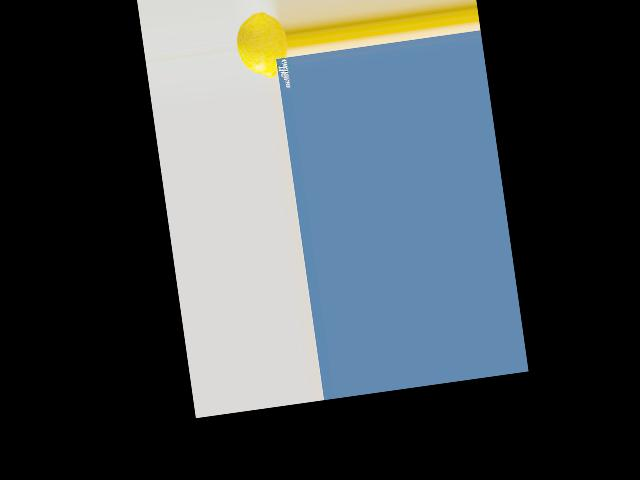lemon: (231, 0, 292, 86)
